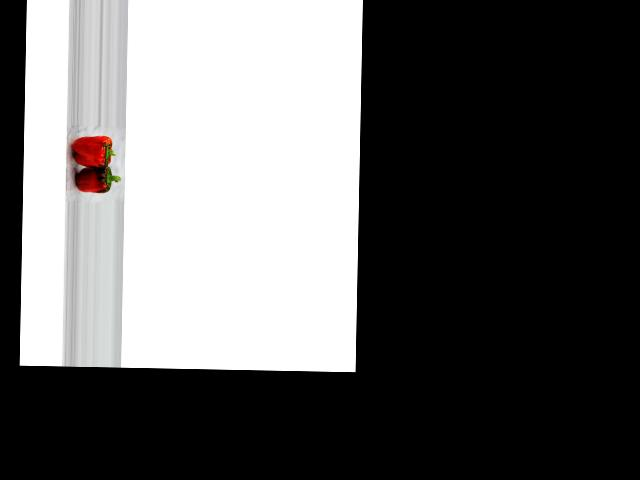bell_pepper: (71, 130, 118, 167)
